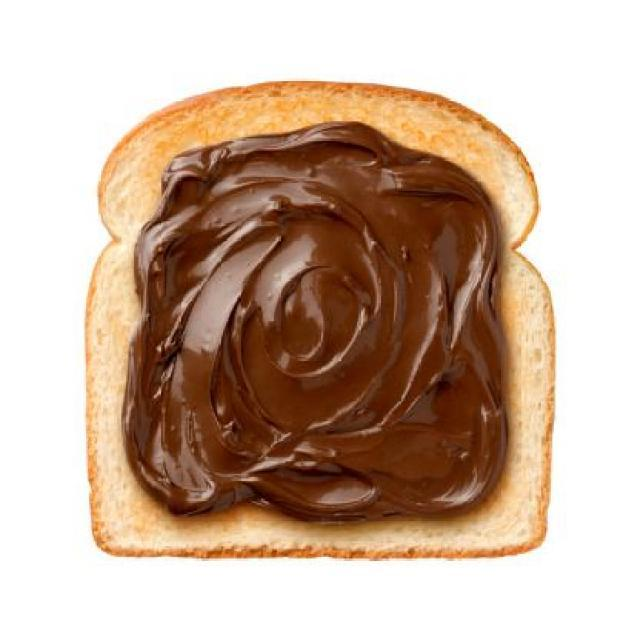Spread: (136, 154, 498, 518)
